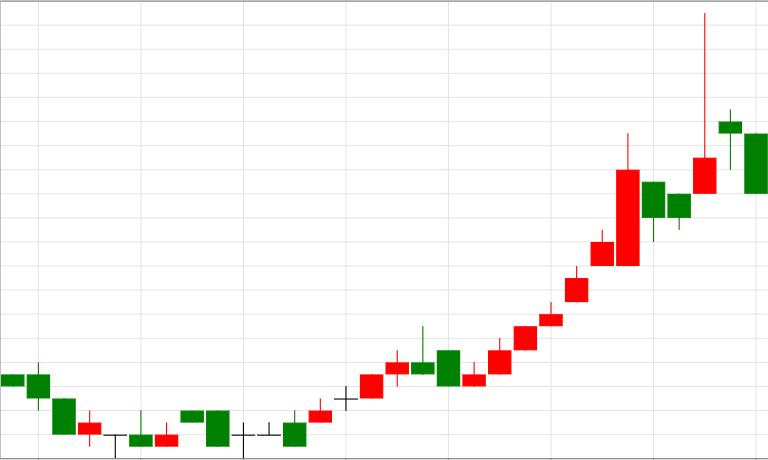evening_star_fall: (463, 14, 768, 386)
shooting_star_fall: (463, 13, 717, 386)
